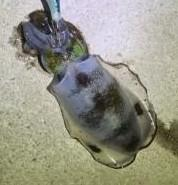Cephalopod: (13, 9, 156, 168)
